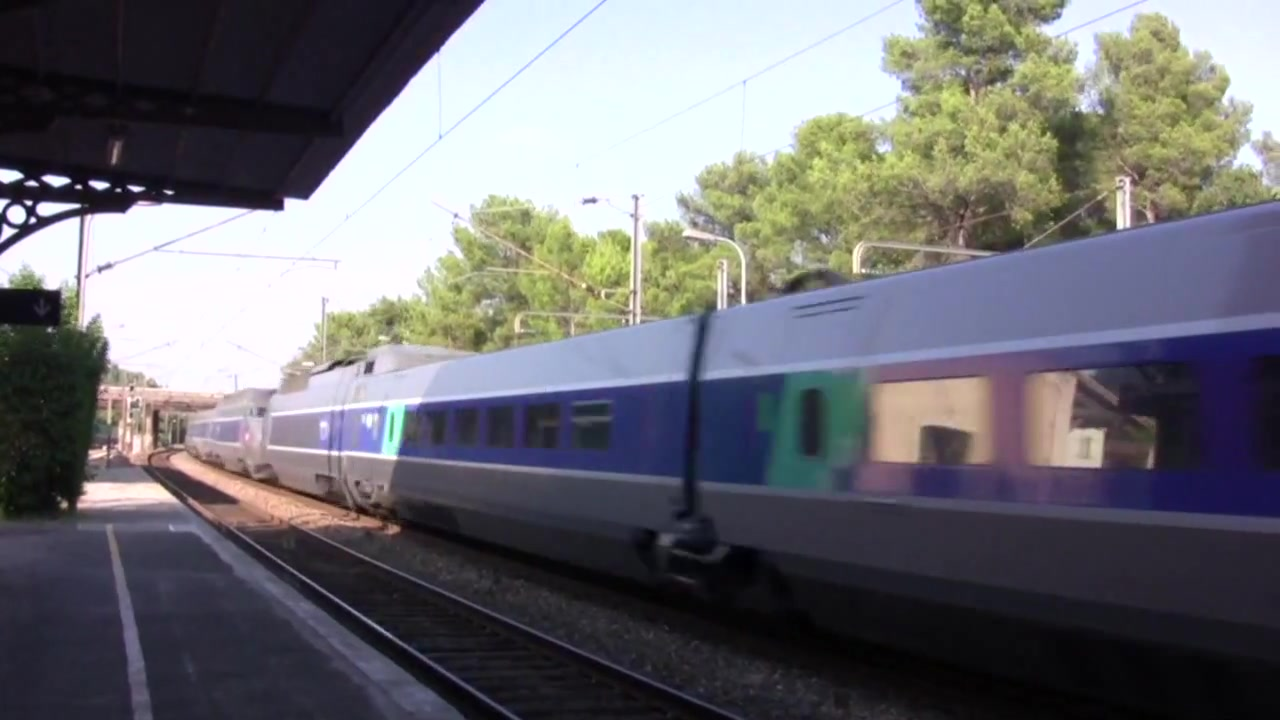train: (184, 198, 1280, 683)
